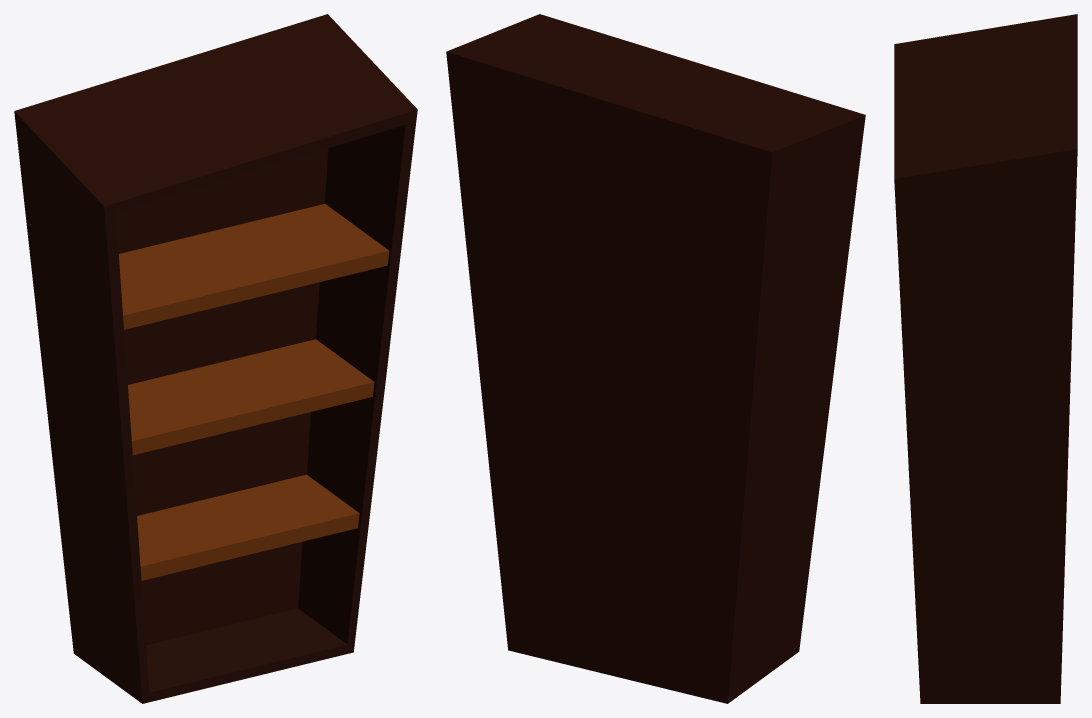
The model's file is House_Anywhere_BookShelf.FBX.
3 renders of one model, left to right at view 1: azimuth 30°, elevation 25°; view 2: azimuth 150°, elevation 25°; view 3: azimuth 270°, elevation 25°, orthographic. The views are drawn at different scales.
Visible parts, largest first — view 1: House_Anywhere_BookShelf_body_topPart, House_Anywhere_BookShelf_body_bottomPart, House_Anywhere_BookShelf_shelfTop, House_Anywhere_BookShelf_shelfMiddle, House_Anywhere_BookShelf_shelfBottom; view 2: House_Anywhere_BookShelf_body_topPart, House_Anywhere_BookShelf_body_bottomPart; view 3: House_Anywhere_BookShelf_body_topPart, House_Anywhere_BookShelf_body_bottomPart.
Boxes of the visible parts, box(x1,y1,x2,y2) form: House_Anywhere_BookShelf_body_topPart: box(14, 14, 417, 513); House_Anywhere_BookShelf_body_bottomPart: box(35, 303, 369, 703); House_Anywhere_BookShelf_shelfTop: box(118, 204, 389, 329); House_Anywhere_BookShelf_shelfMiddle: box(128, 339, 374, 455); House_Anywhere_BookShelf_shelfBottom: box(137, 474, 359, 580); House_Anywhere_BookShelf_body_topPart: box(446, 14, 865, 482); House_Anywhere_BookShelf_body_bottomPart: box(491, 311, 841, 703); House_Anywhere_BookShelf_body_topPart: box(894, 14, 1077, 569); House_Anywhere_BookShelf_body_bottomPart: box(913, 549, 1065, 703).
Bounding box in the file's own units: 210 × 364 × 104.
